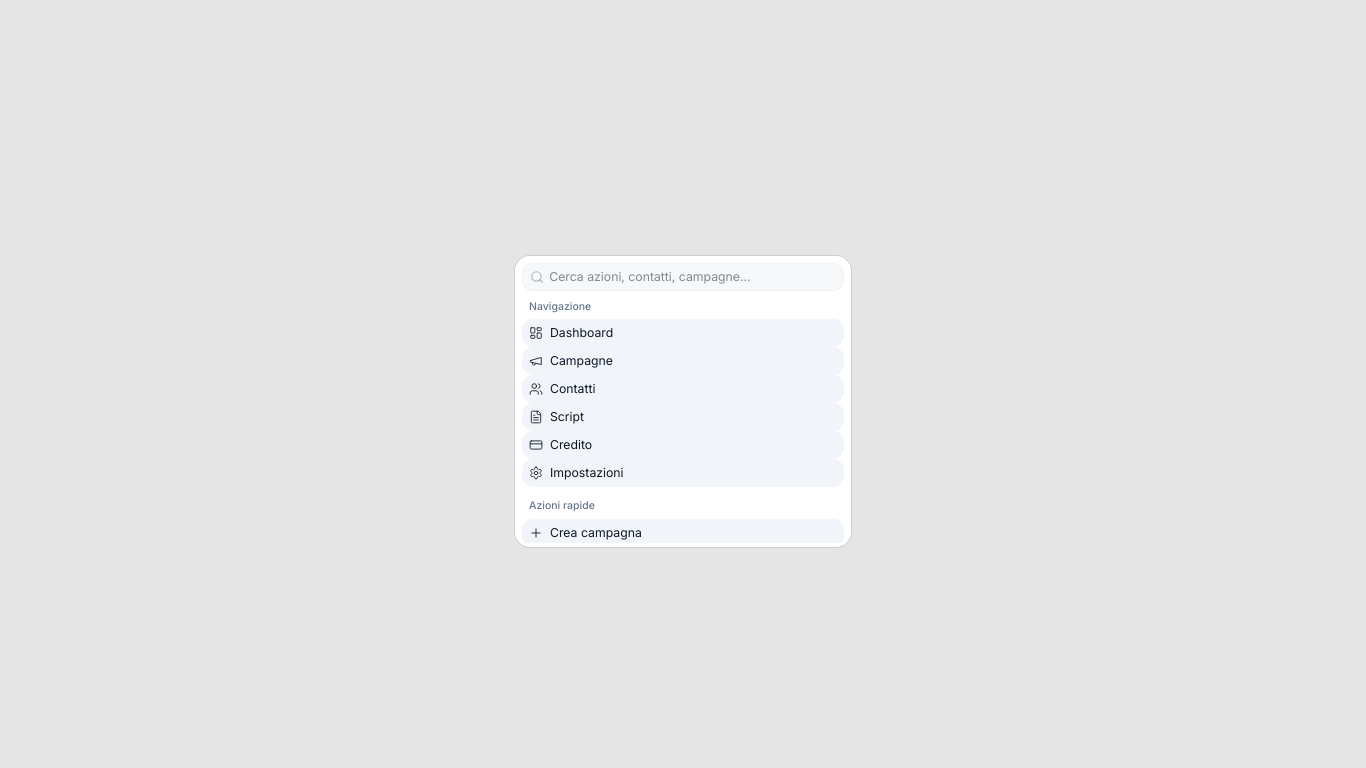
it: CommandPalette › server-side search › renders contact, campaign, and script results after the action resolves
Type "rio" into the dropdown with placeholder "Cerca azioni, contatti, campagne…" at (694, 277), box left=544, top=268, right=843, bottom=286
Wait 250 ms
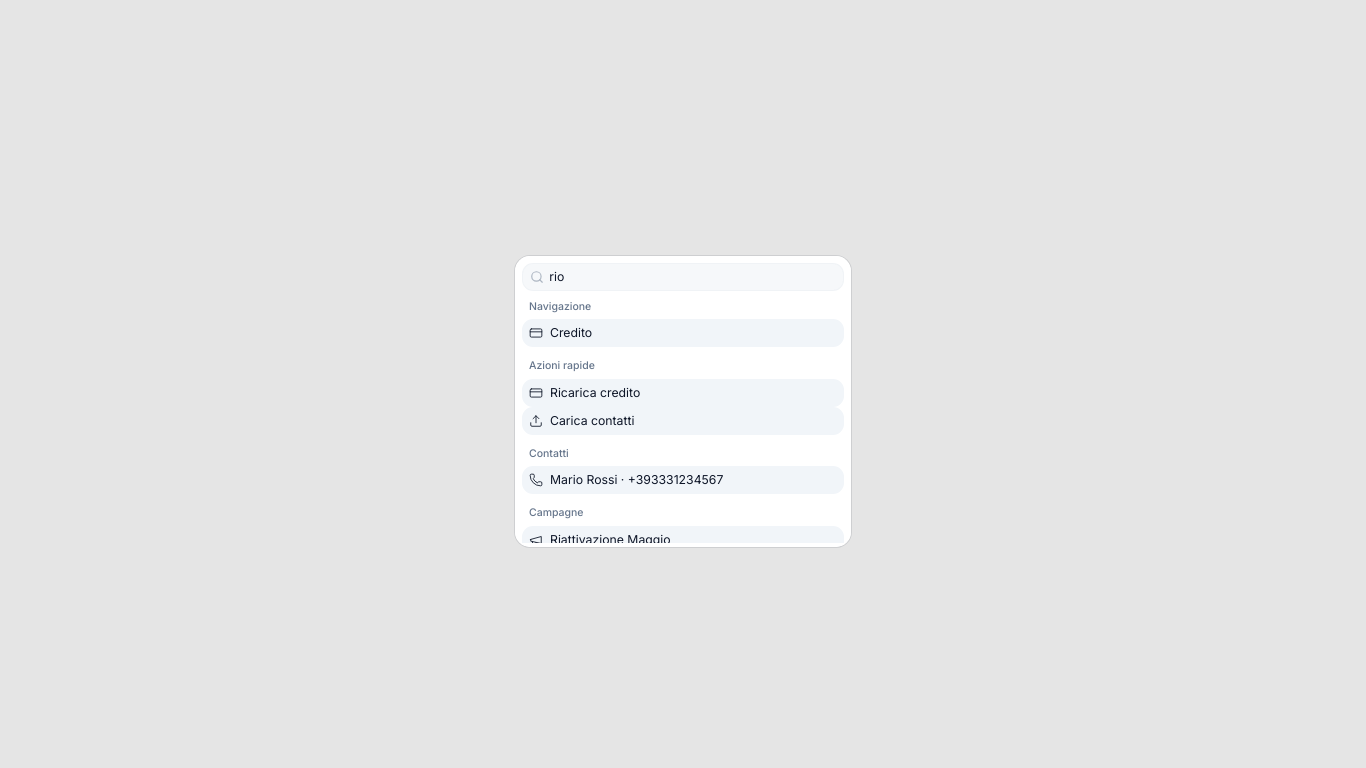
Expected: the option with test id "cmd-contact-c-1" is shown, left=522, top=466, right=844, bottom=494
Expected: the option with test id "cmd-campaign-cmp-1" is shown, left=522, top=526, right=844, bottom=543
